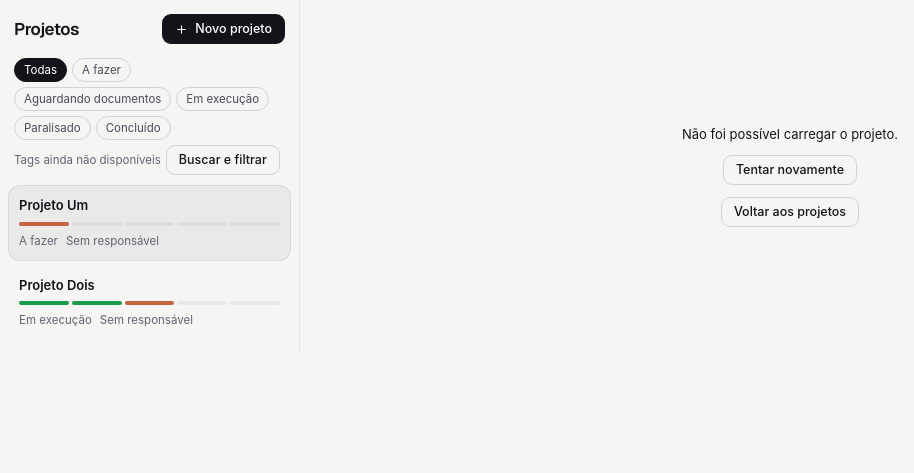
Scenario: Lista de projetos compacta › Todas e painel secundário preservam filtros de fase, responsável e busca por descrição
Click the button "Em execução" at [223, 99], box [176,87,269,111]
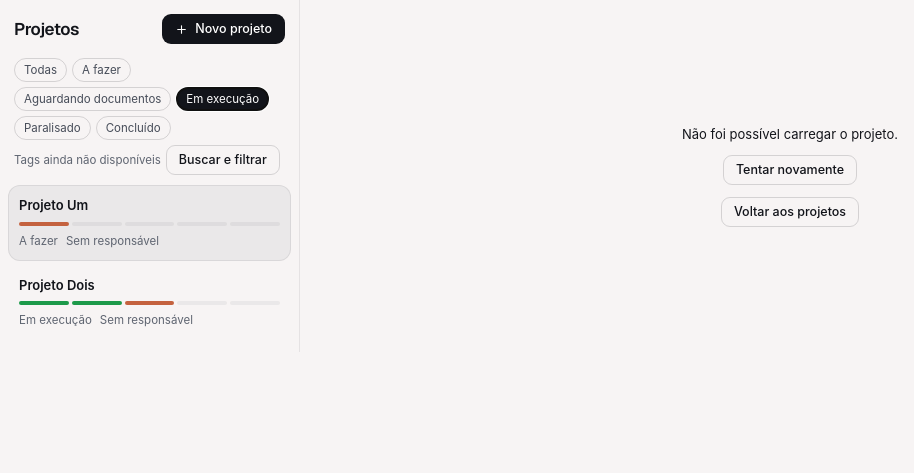
Now the button "Em execução" is pressed, box [176,87,269,111]
Click the button "Buscar e filtrar" at [223, 160], box [166,145,280,175]
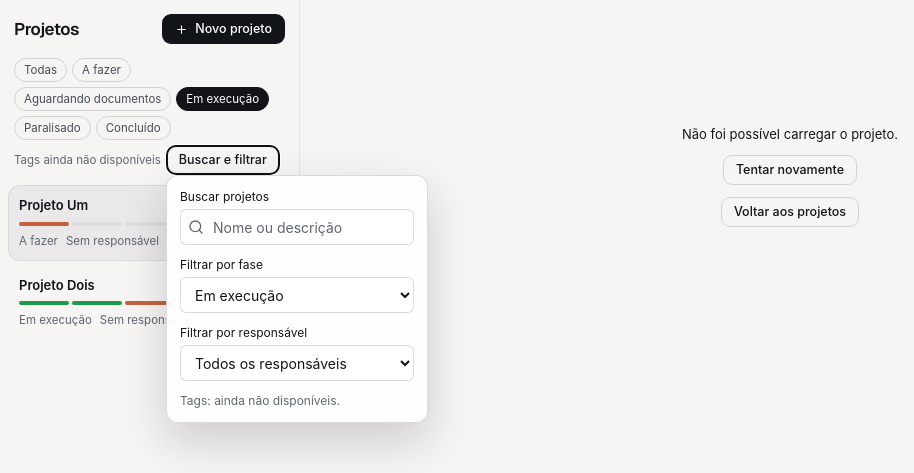
Select "Responsável de teste" in the dropdown labelled "Filtrar por responsável" at [297, 363], box [180,345,414,381]
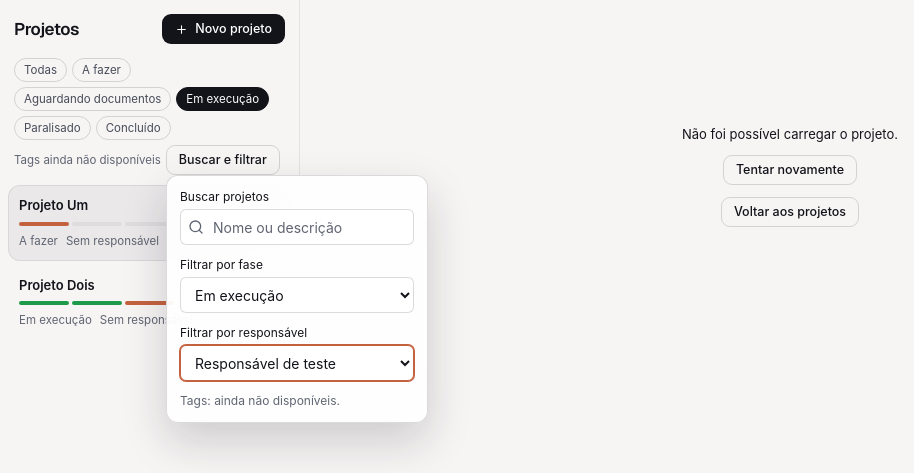
Type "Documentos" into the field labelled "Buscar projetos" at [297, 227], box [180,209,414,245]
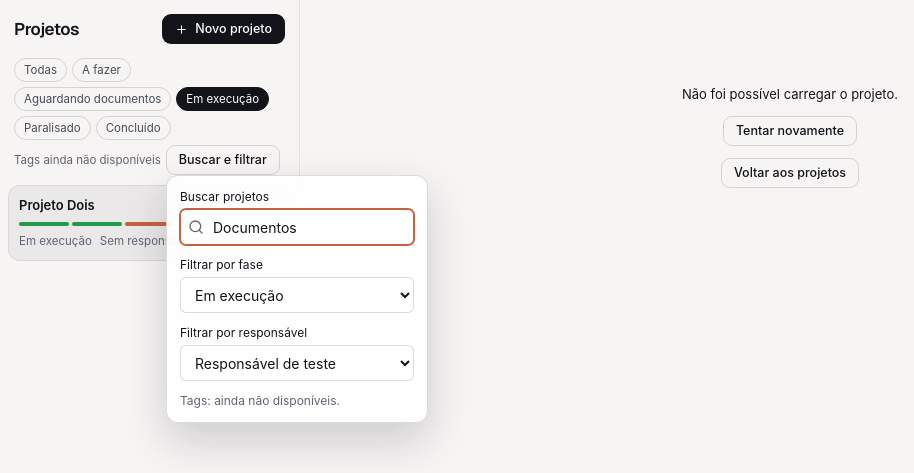
Expected: the button "Projeto Dois Em execução Sem responsável" is shown, [8,185,291,260]
Now the button "Projeto Um" is gone
Press Escape
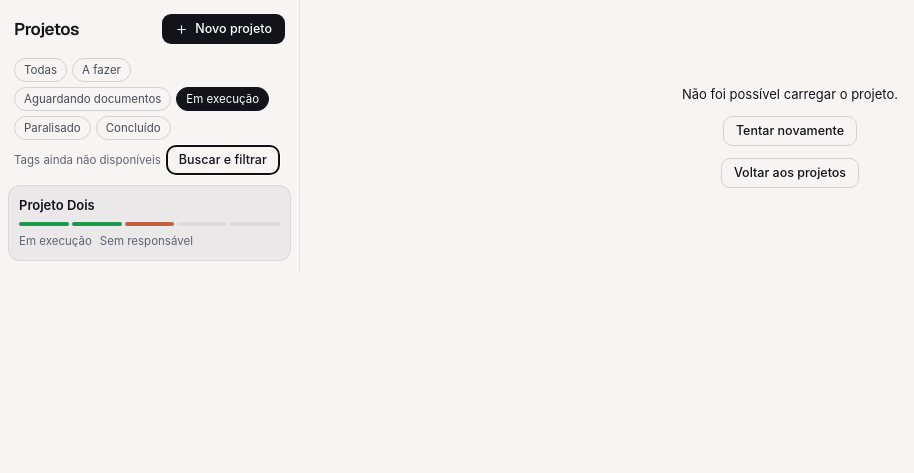
Now the button "Todas" is not pressed
Click the button "Todas" at [40, 70], box [14,58,67,82]
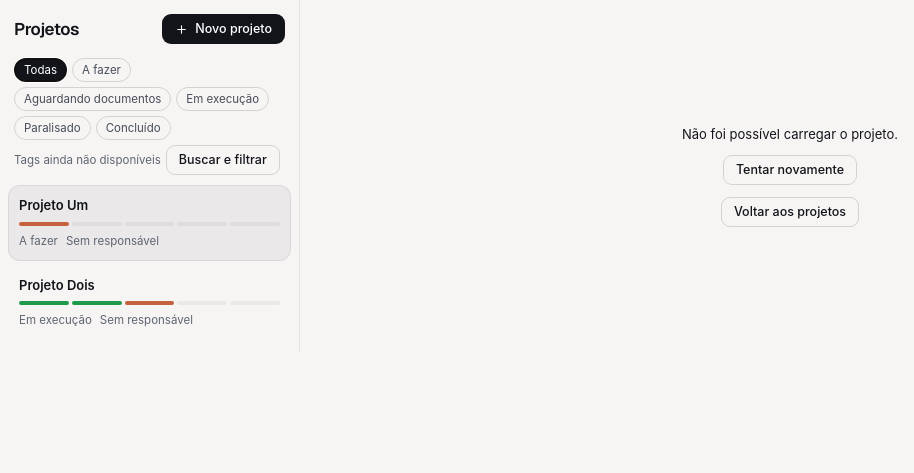
Now the button "Projeto Um A fazer Sem responsável" is shown, box [8,185,291,260]
